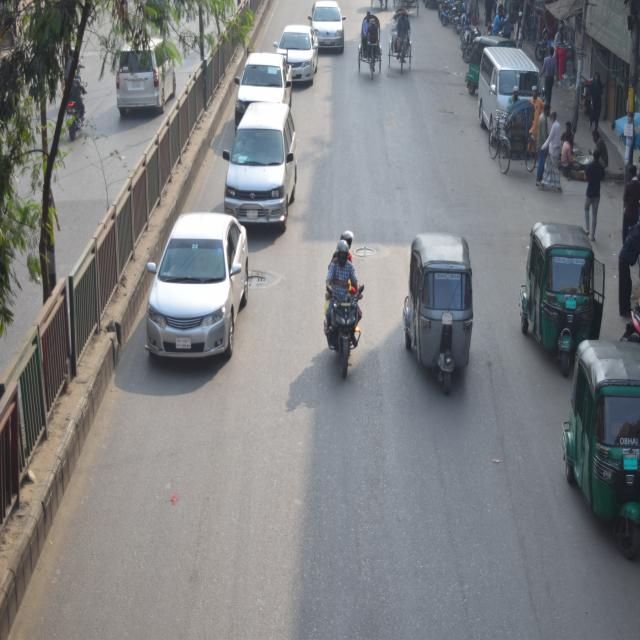car: (148, 205, 240, 364), (238, 49, 292, 104), (280, 17, 316, 87), (308, 2, 342, 53)
microbus: (235, 100, 295, 230), (474, 39, 546, 147), (113, 32, 182, 112)
motorbike: (314, 274, 368, 382)
